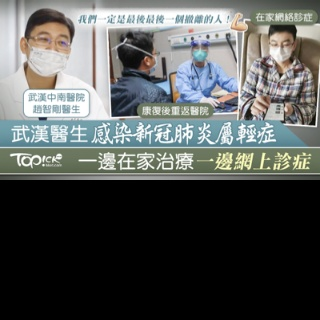with_mask: (25, 28, 71, 76), (268, 37, 293, 64), (148, 49, 160, 74), (192, 44, 208, 61)
